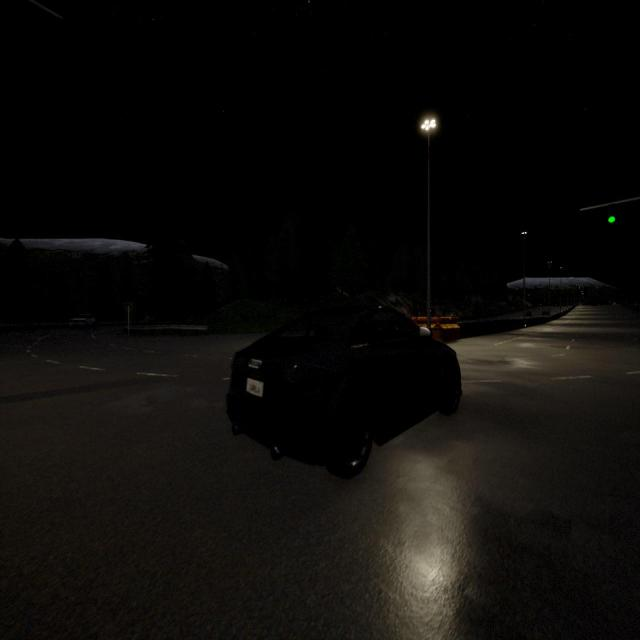Vehicle: (227, 305, 461, 477), (541, 306, 550, 316), (525, 310, 532, 317)
traffic_light: (608, 204, 615, 223)
